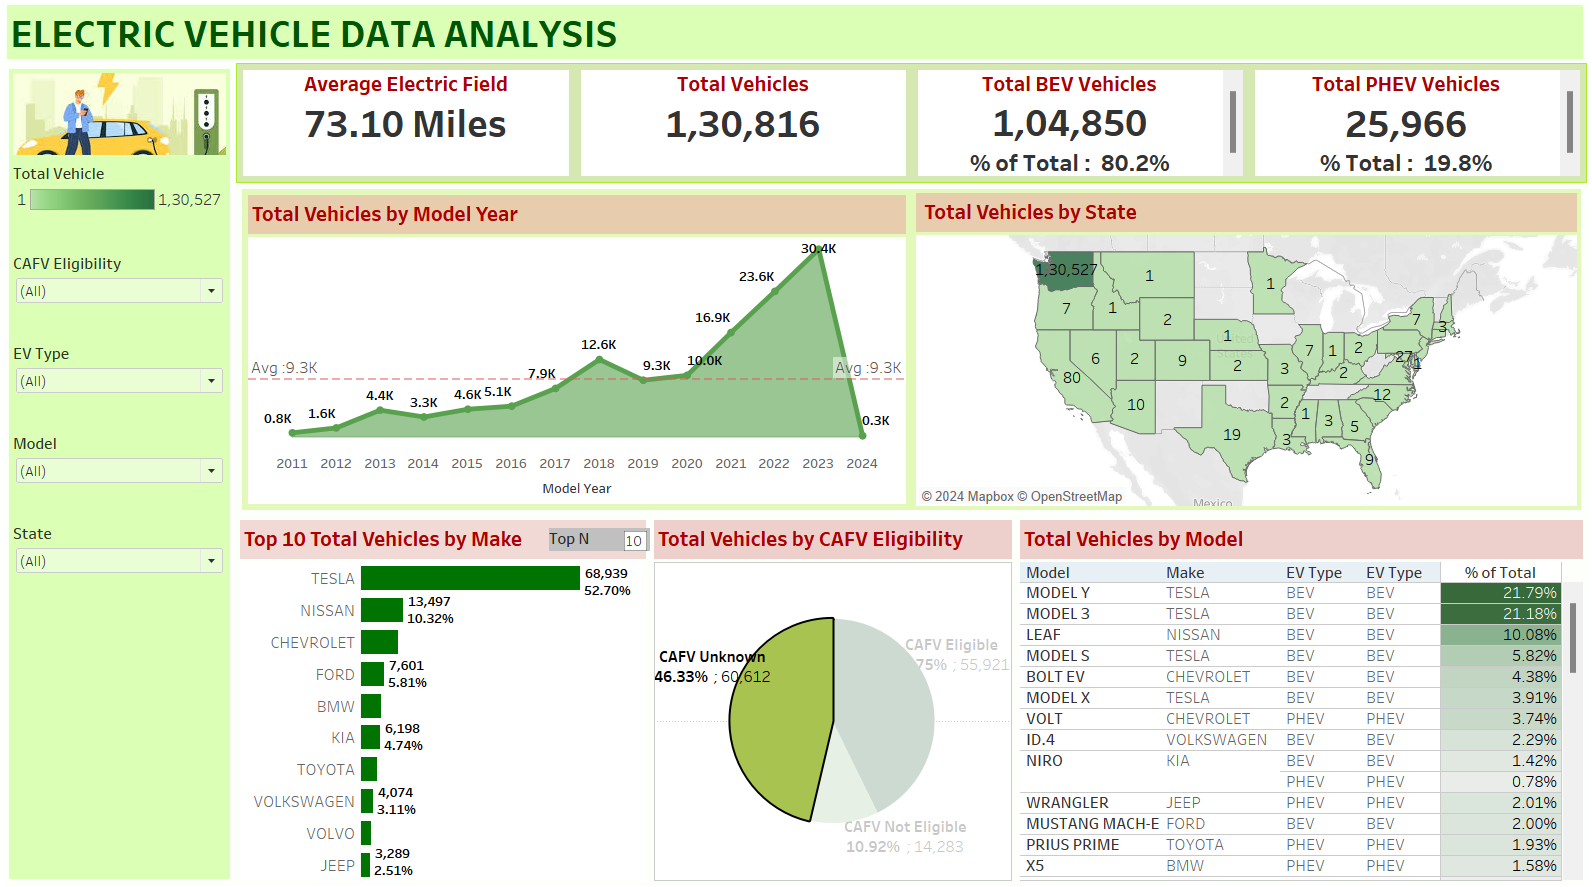

The page's visual inventory and layout, read from the dashboard file:
{"tool":"tableau","page":{"name":"Dashboard 1","canvas":[1600,900],"ordinal":0},"visuals":[{"type":"title","box":[8,8,1584,62]},{"type":"worksheet","title":"Avg Electric Range","mark":"Automatic","box":[242,71,338,118]},{"type":"worksheet","title":"Total Vehicles","mark":"Automatic","box":[580,71,337,118]},{"type":"worksheet","title":"Total BEV Vehicles","mark":"Automatic","box":[917,71,337,118]},{"type":"worksheet","title":"Total PHEV Vehicles ","mark":"Automatic","box":[1254,71,337,118]},{"type":"image","param":"C:/Users/patha/Downloads/images.jpg","box":[14,76,221,90]},{"type":"legend","title":" Total Vehicles by State","param":"[federated.0hicjzw1i3rsvd1em40hl092nd7p].[usr:Calculation_1167276735010070528:qk","box":[14,166,221,90]},{"type":"worksheet","title":"Total Vehicles by Model Year ","mark":"Area","rows":["Calculation_1167276735010070528","Calculation_1167276735010070528"],"cols":["Model Year"],"box":[247,196,670.4,321]},{"type":"worksheet","title":" Total Vehicles by State","mark":"Multipolygon","box":[917.4,196,668.6,321]},{"type":"filter","title":"Total Vehicles by Model Year ","param":"[federated.0hicjzw1i3rsvd1em40hl092nd7p].[none:Clean Alternative Fuel Vehicle (C","box":[14,256,221,90]},{"type":"filter","title":"Total Vehicles by Model Year ","param":"[federated.0hicjzw1i3rsvd1em40hl092nd7p].[none:Electric Vehicle Type:nk]","box":[14,346,221,90]},{"type":"filter","title":"Total Vehicles by Model Year ","param":"[federated.0hicjzw1i3rsvd1em40hl092nd7p].[none:Model:nk]","box":[14,436,221,90]},{"type":"worksheet","title":"Top 10 Total Vehicles by Make","mark":"Automatic","rows":["Make"],"cols":["Calculation_1167276735010070528"],"box":[241,523,414,369]},{"type":"worksheet","title":"Total Vehicles by CAFV Eligibility","mark":"Pie","rows":["Calculation_1167276735046004743","Calculation_1167276735046004743"],"box":[655,523,366,369]},{"type":"worksheet","title":" Top 10 Total Vehicles by Model","mark":"Square","rows":["Model","Make","Electric Vehicle Type","Electric Vehicle Type"],"box":[1021,523,571,369]},{"type":"filter","title":"Total Vehicles by Model Year ","param":"[federated.0hicjzw1i3rsvd1em40hl092nd7p].[none:State:nk]","box":[14,526,221,90]},{"type":"parameter","param":"[Parameters].[Parameter 1]","box":[554,535,101,23]},{"type":"blank","box":[14,616,221,90]},{"type":"blank","box":[14,706,221,90]},{"type":"blank","box":[14,796,221,90]}]}

Visuals, with their boxes in screenshot pixels (x1, y1, x2, y2), scaled from the page's 1600x900 canvas onto the 1592x887 screenshot:
title: box(8, 8, 1584, 69)
"Avg Electric Range" worksheet: box(241, 70, 577, 186)
"Total Vehicles" worksheet: box(577, 70, 912, 186)
"Total BEV Vehicles" worksheet: box(912, 70, 1248, 186)
"Total PHEV Vehicles " worksheet: box(1248, 70, 1583, 186)
image: box(14, 75, 234, 164)
" Total Vehicles by State" legend: box(14, 164, 234, 252)
"Total Vehicles by Model Year " worksheet (Area marks): box(246, 193, 913, 510)
" Total Vehicles by State" worksheet (Multipolygon marks): box(913, 193, 1578, 510)
"Total Vehicles by Model Year " filter: box(14, 252, 234, 341)
"Total Vehicles by Model Year " filter: box(14, 341, 234, 430)
"Total Vehicles by Model Year " filter: box(14, 430, 234, 518)
"Top 10 Total Vehicles by Make" worksheet: box(240, 515, 652, 879)
"Total Vehicles by CAFV Eligibility" worksheet (Pie marks): box(652, 515, 1016, 879)
" Top 10 Total Vehicles by Model" worksheet (Square marks): box(1016, 515, 1584, 879)
"Total Vehicles by Model Year " filter: box(14, 518, 234, 607)
parameter: box(551, 527, 652, 550)
blank: box(14, 607, 234, 696)
blank: box(14, 696, 234, 785)
blank: box(14, 785, 234, 873)
